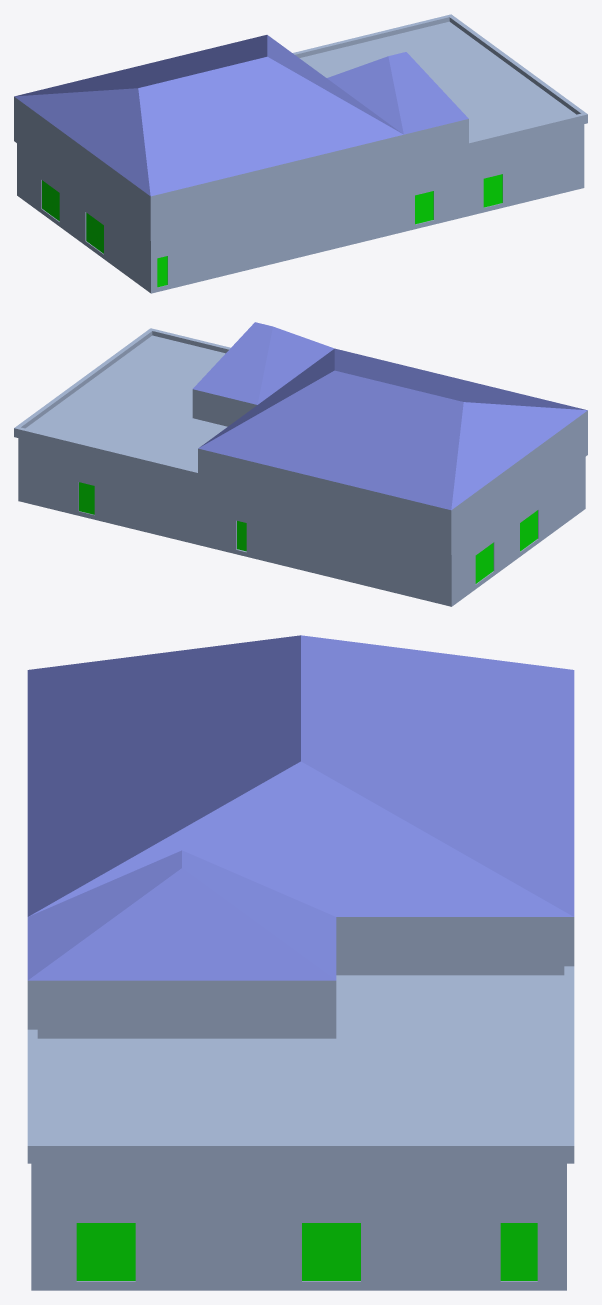
The model's file is Ozone_Generator_Room.glb.
3 views of the same model, one above another, from view 1: azimuth 30°, elevation 25°; view 2: azimuth 150°, elevation 25°; view 3: azimuth 270°, elevation 25° (orthographic). The views are drawn at different scales.
Visible parts, largest first — view 1: Roof, Floor1; view 2: Roof, Floor1; view 3: Roof, Floor1.
Boxes of the visible parts, bbox=[...] form: Roof: bbox=[14, 14, 587, 240]; Floor1: bbox=[17, 124, 584, 293]; Roof: bbox=[14, 322, 587, 554]; Floor1: bbox=[18, 438, 585, 606]; Roof: bbox=[27, 635, 574, 1163]; Floor1: bbox=[31, 1163, 566, 1290].
Bounding box in the file's own units: 41.01 × 12.8 × 22.2.
